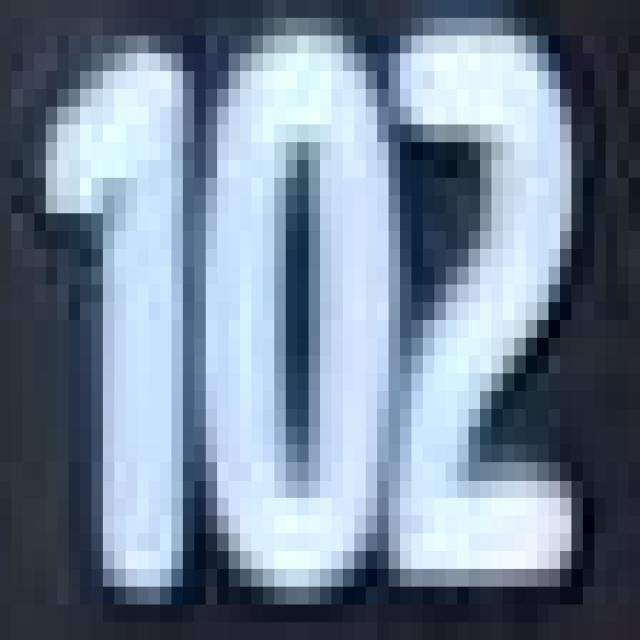character: (388, 14, 593, 599), (201, 18, 390, 594), (34, 21, 198, 612)
